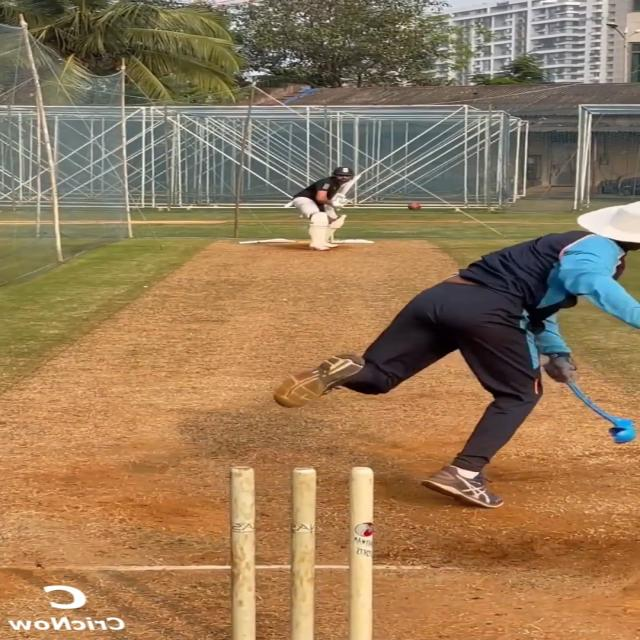ball: (406, 202, 423, 211)
stump: (227, 462, 378, 640)
